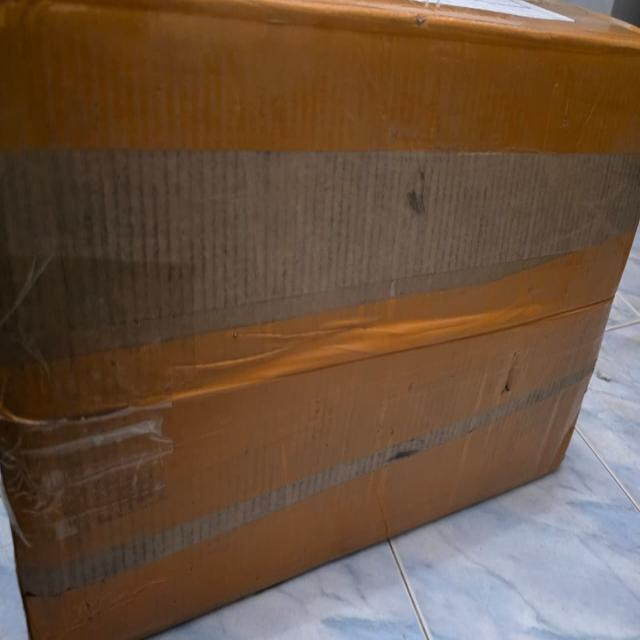carton_box: (0, 0, 640, 640)
package_damage: (493, 356, 524, 416)
